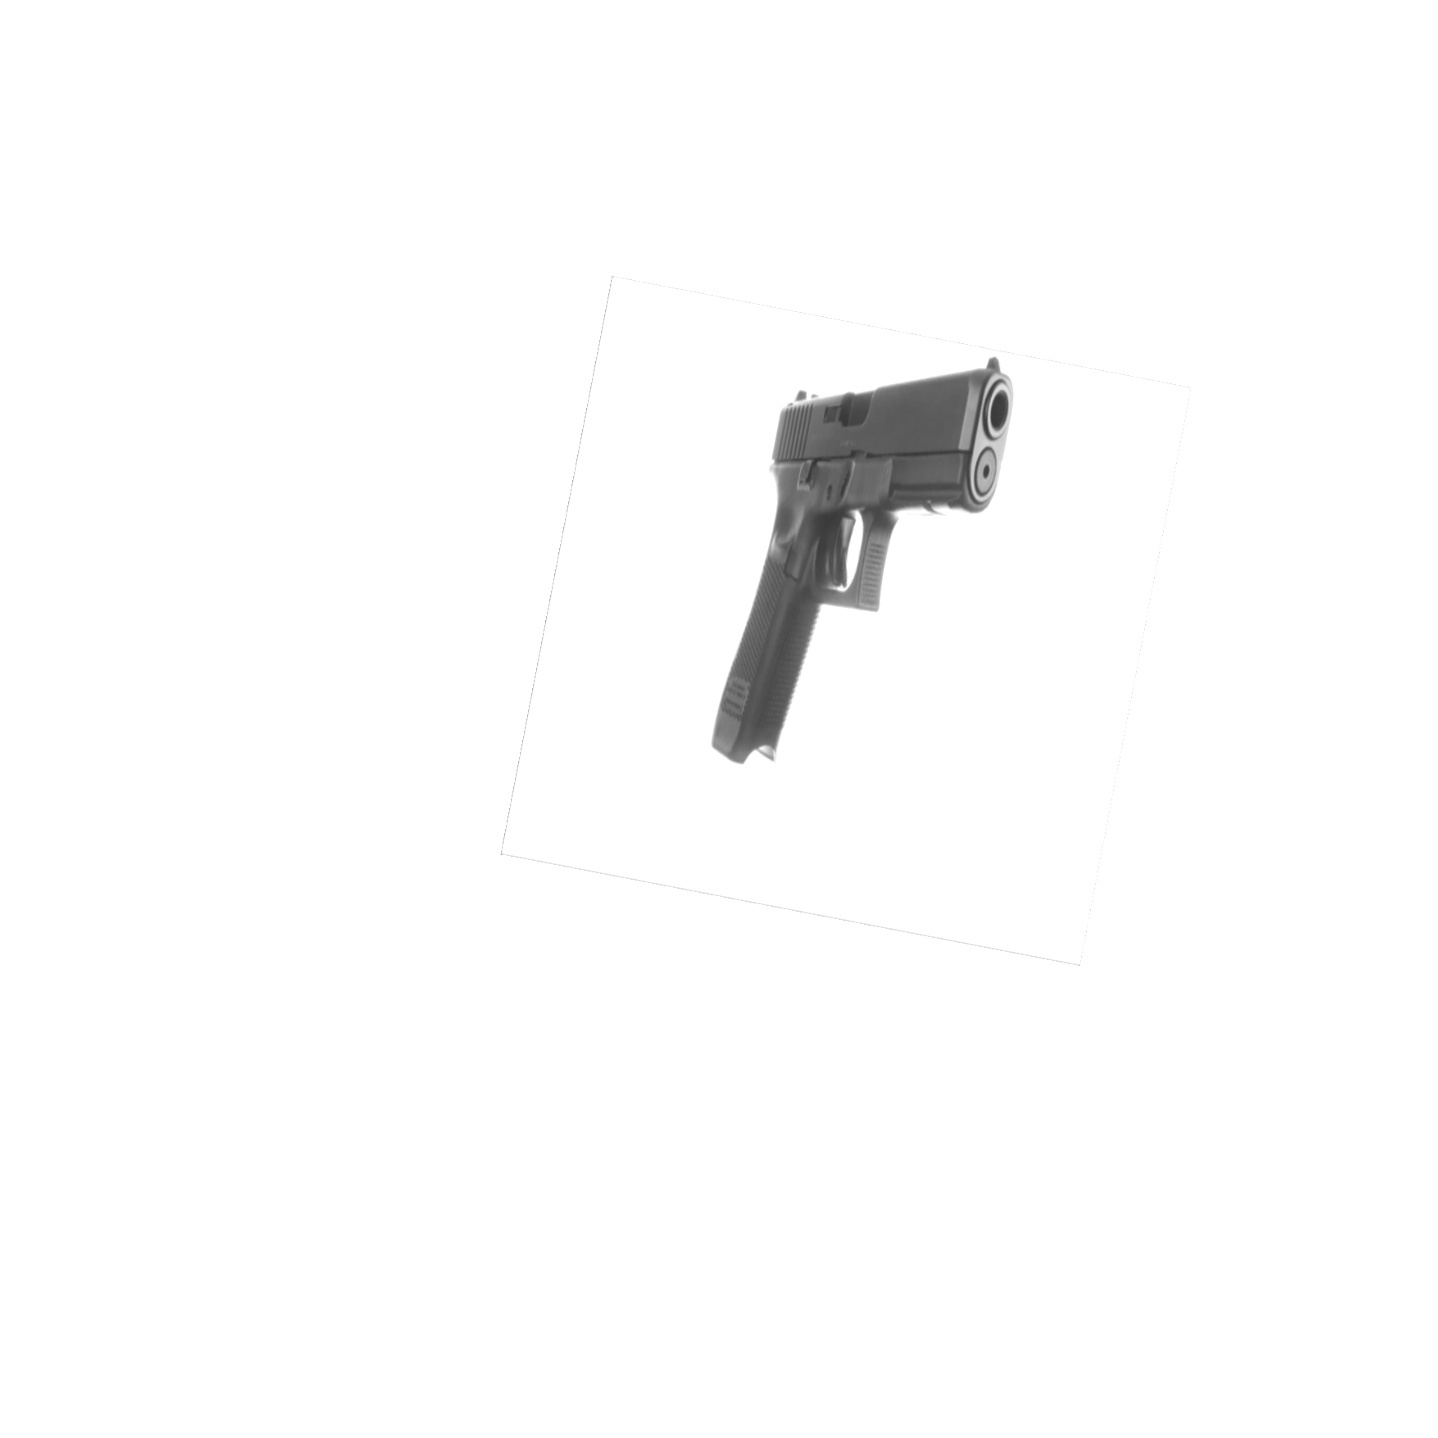gun: (703, 349, 1021, 770)
